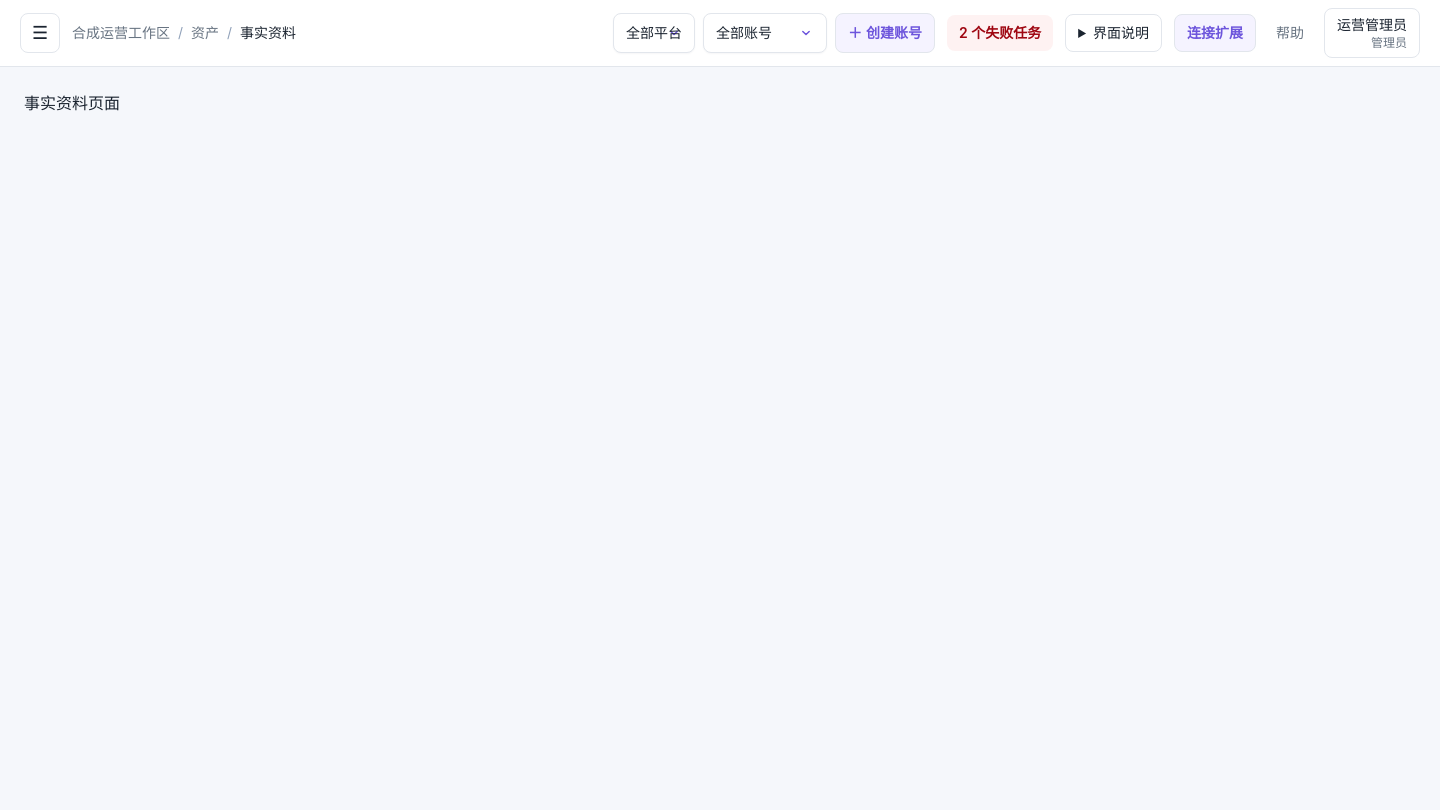
workspace shell behavior › opens the matching mobile category on a deep link
Click the button named "打开主导航" at (40, 33), box top-left (20, 13), bottom-right (60, 53)
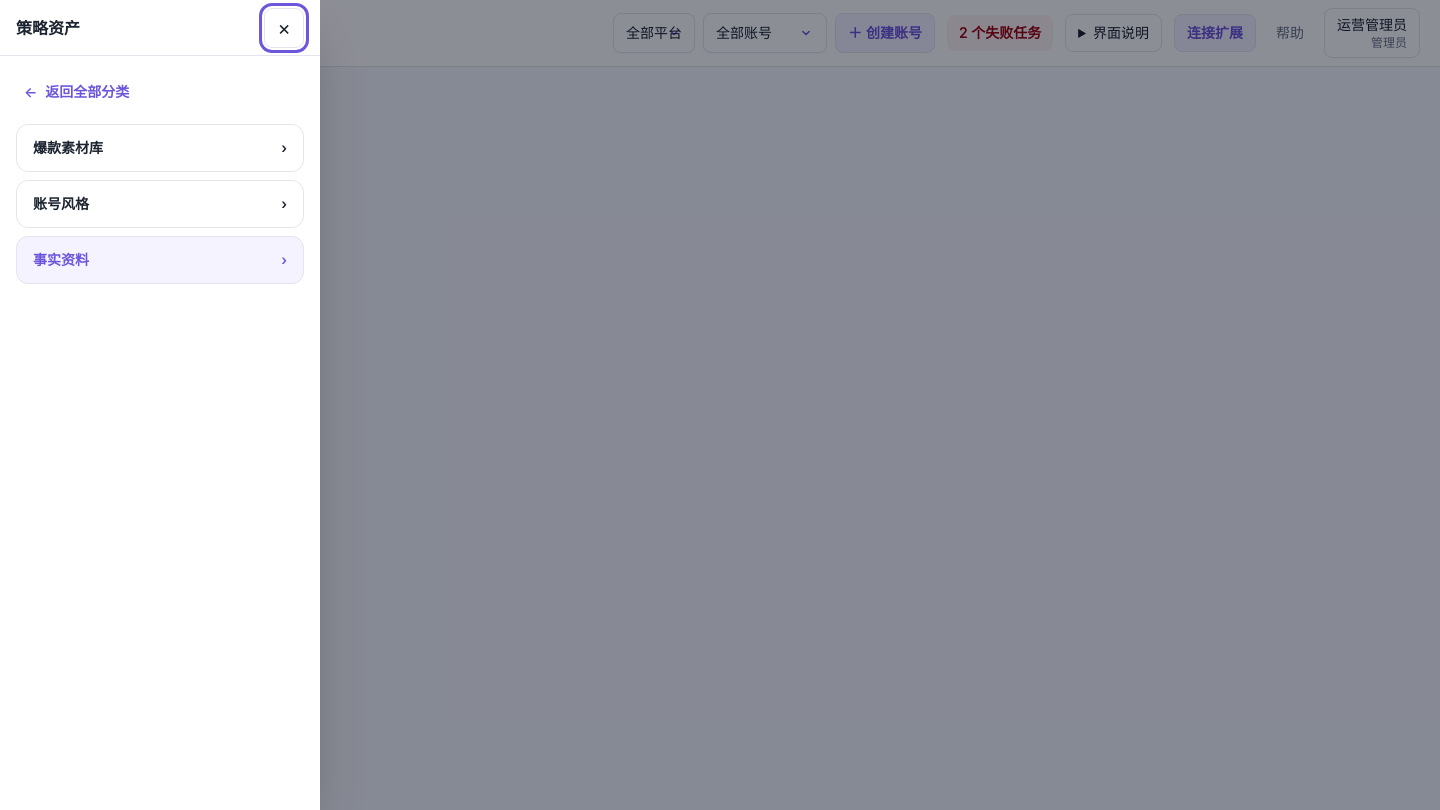
Check: the navigation bar named "策略资产功能" is shown, box top-left (0, 112), bottom-right (320, 296)
Click the button "← 返回全部分类" at (77, 92), box top-left (16, 72), bottom-right (137, 112)
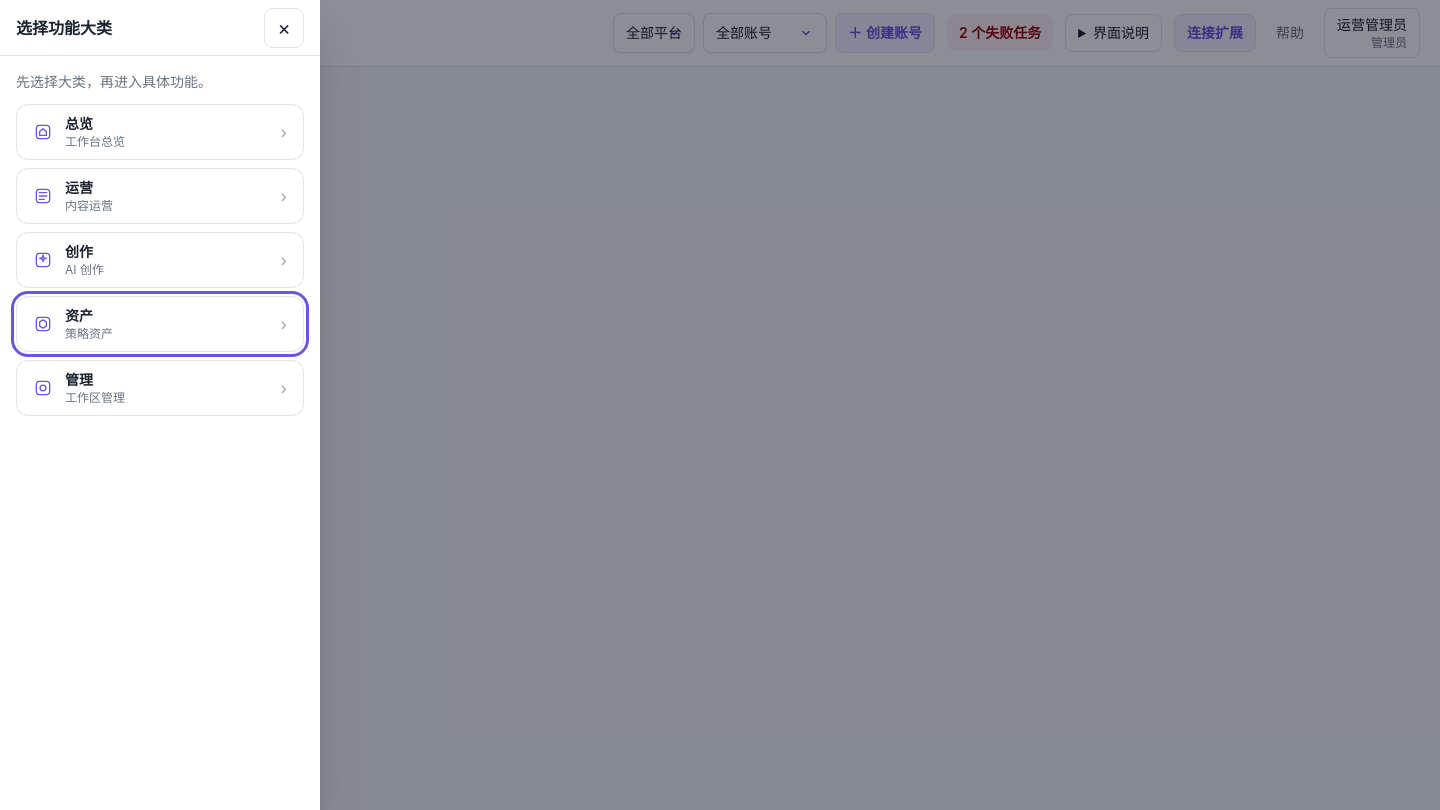
Press Escape
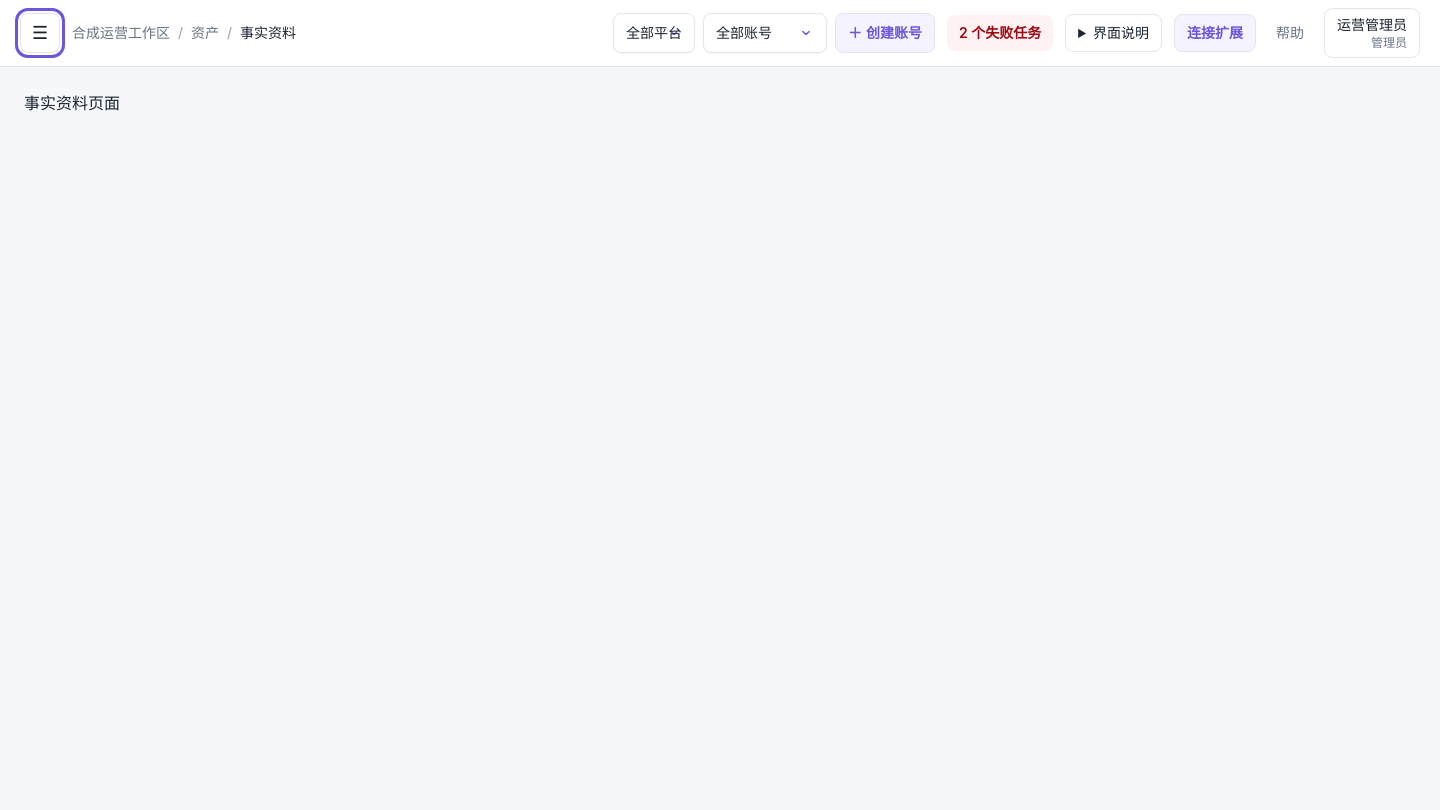
Check: the dialog "主导航" is gone
